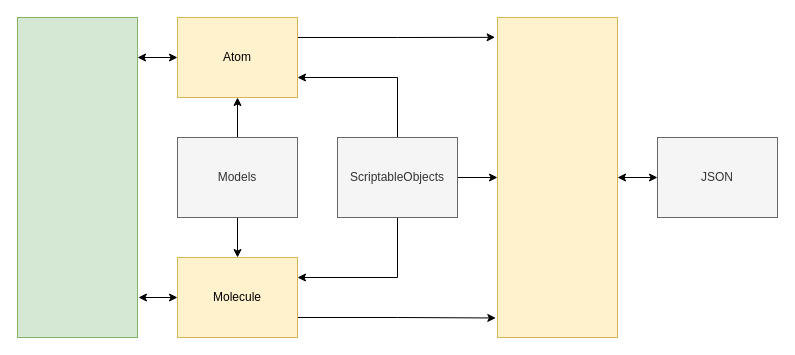
The diagram is 795 pixels wide and 355 high, and some of its shapes have lost their labels. Here are the shapes that lost their labels. From the top down, the centre of each, then its label:
pixel 77 177: Vuforia
pixel 557 177: TaskMode
